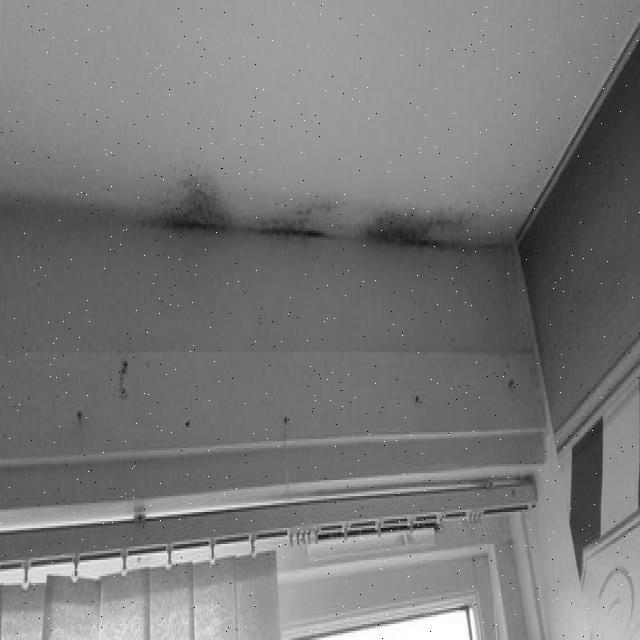pin holes: (166, 409, 204, 438), (63, 398, 87, 428), (494, 376, 521, 400), (274, 409, 299, 428), (106, 353, 132, 370), (407, 389, 429, 406), (115, 386, 134, 402)
stain marks: (354, 197, 526, 263), (138, 177, 244, 256), (245, 195, 352, 258)
